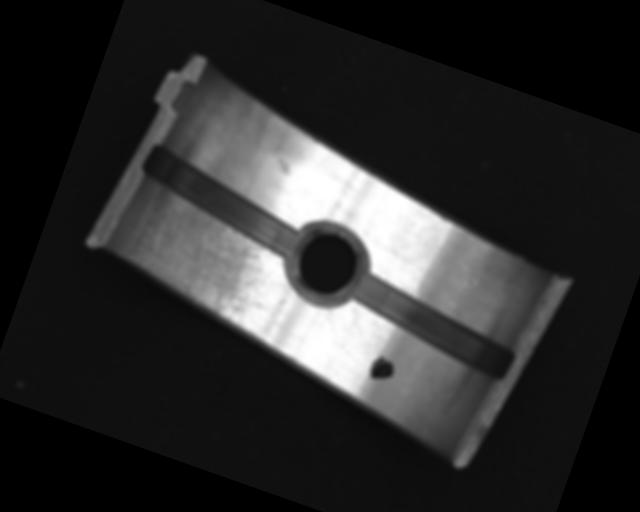blot: (367, 353, 397, 385)
bruise: (273, 155, 296, 177)
gap: (128, 139, 322, 263), (341, 269, 527, 383)
hole: (281, 216, 373, 312)
nick: (396, 232, 438, 300), (318, 305, 345, 344)
scratch: (98, 179, 297, 345)
